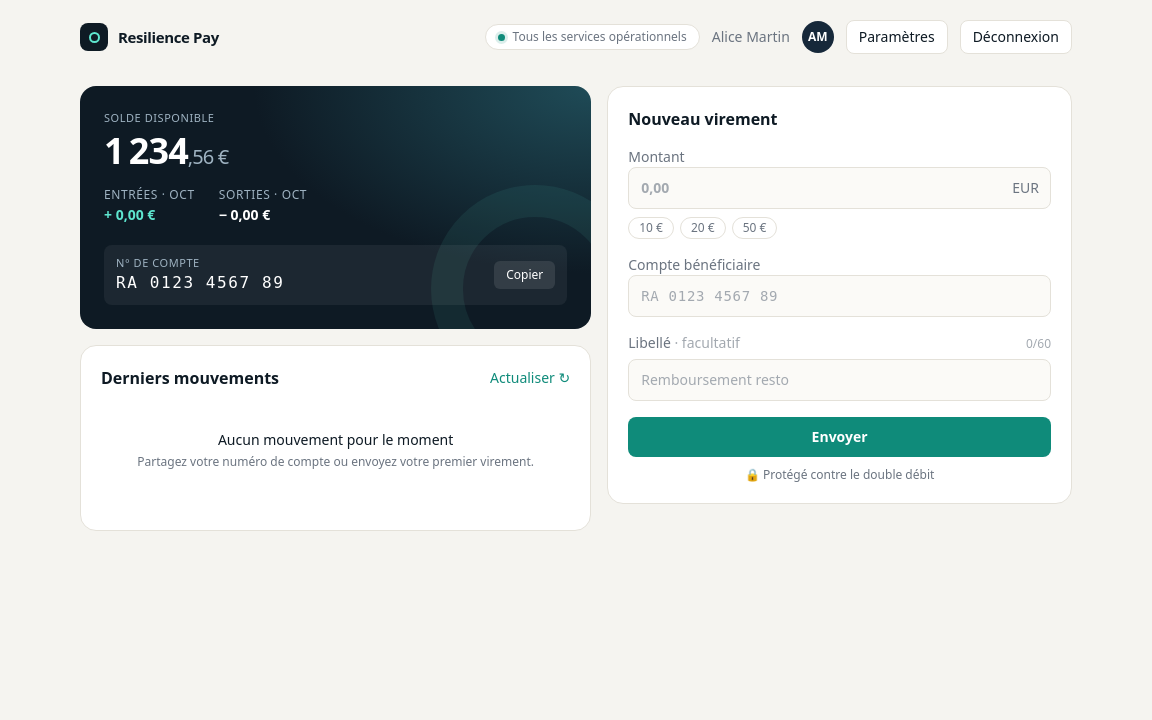
Scenario: App : session › efface la session à la déconnexion
Click the button "Déconnexion". click: click(1016, 37)
box: [960,20,1072,54]
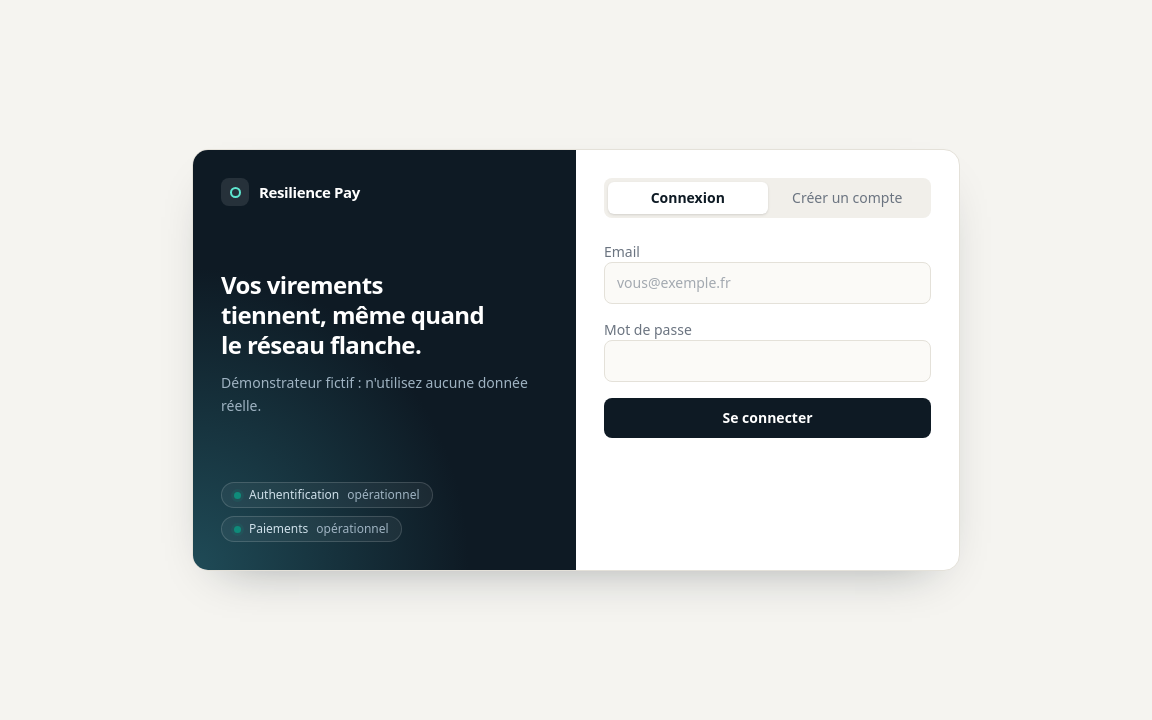
Expected: the button "Se connecter" is shown, [604,398,931,438]
